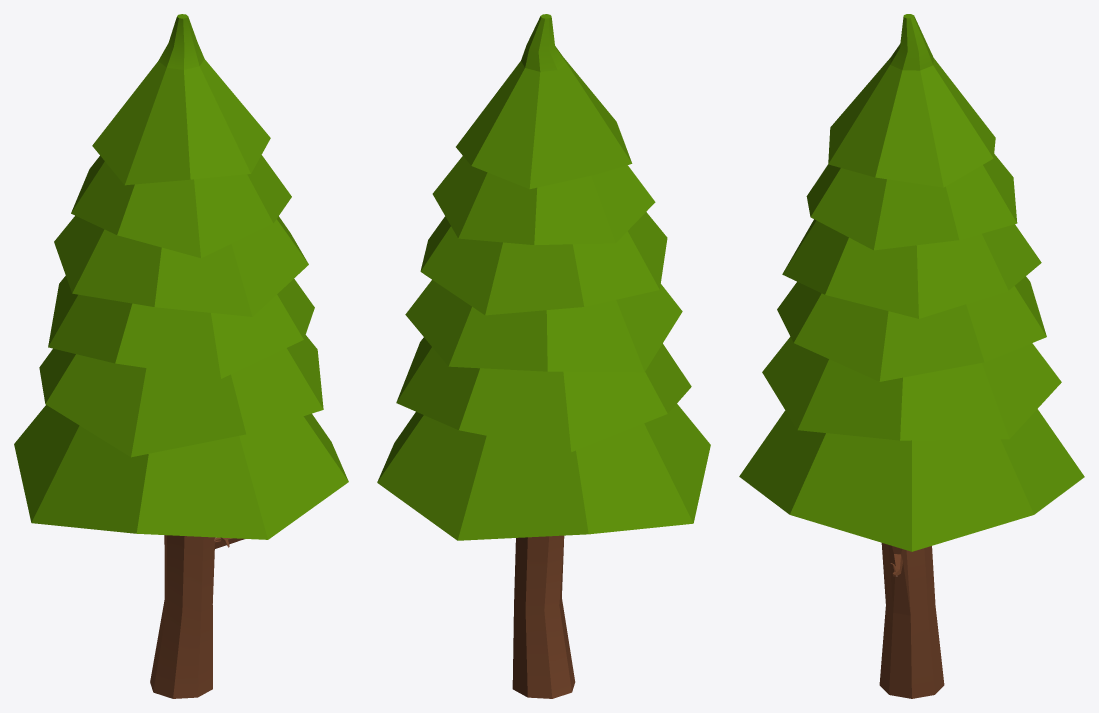
File: tree.glb
3 renders of one model, left to right at view 1: azimuth 30°, elevation 25°; view 2: azimuth 150°, elevation 25°; view 3: azimuth 270°, elevation 25°, orthographic.
Visible parts, largest first — view 1: pine_tree; view 2: pine_tree; view 3: pine_tree.
Boxes of the visible parts, x1,y1,x2,y2 form: pine_tree: [14, 14, 348, 698]; pine_tree: [377, 14, 710, 698]; pine_tree: [739, 14, 1084, 698].
Size of the model in its own units: 309 by 659 by 309.
